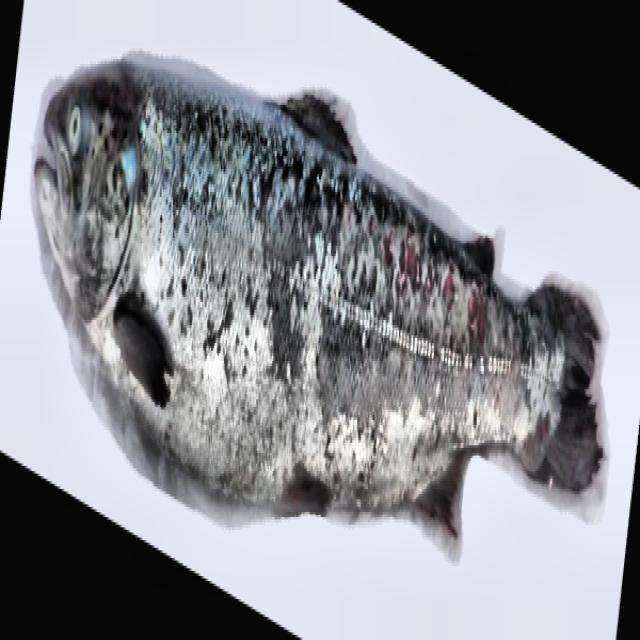mild_red: (85, 59, 564, 512)
